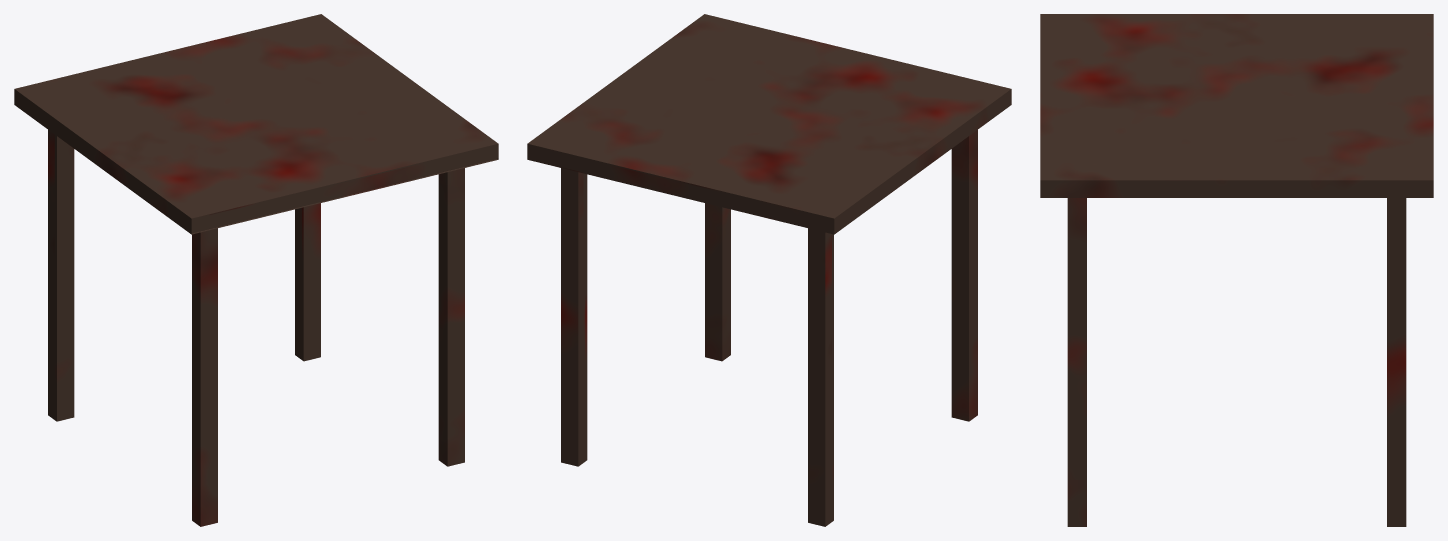
File: Table.fbx
3 renders of one model, left to right at view 1: azimuth 30°, elevation 25°; view 2: azimuth 150°, elevation 25°; view 3: azimuth 270°, elevation 25°, orthographic. The views are drawn at different scales.
Parts seen in each view (by area): view 1: Cube.004; view 2: Cube.004; view 3: Cube.004.
Boxes of the visible parts, <box> form: Cube.004: <box>14,14,498,526</box>; Cube.004: <box>527,14,1011,526</box>; Cube.004: <box>1040,14,1433,526</box>.
Size of the model in its own units: 1.99 by 2 by 1.99.
1 material, 1 textured.
